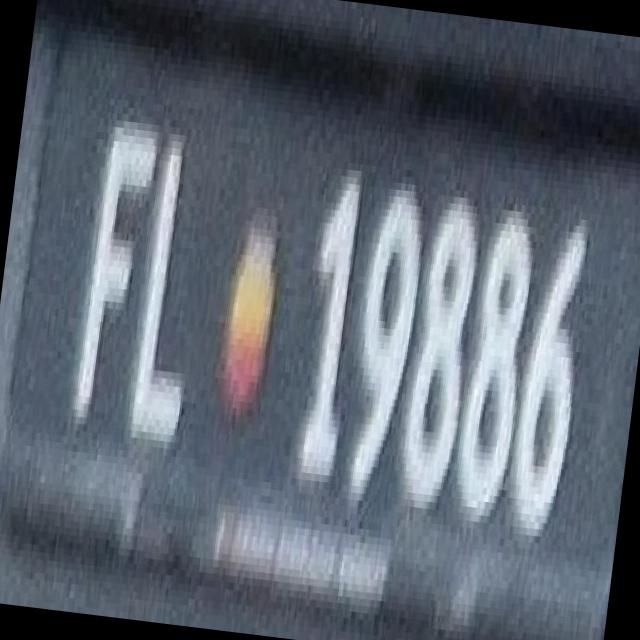1: (276, 151, 372, 476)
6: (497, 192, 611, 534)
8: (379, 171, 494, 512), (442, 179, 552, 512)
9: (318, 157, 434, 498)
F: (46, 94, 168, 430)
L: (110, 110, 230, 444)
